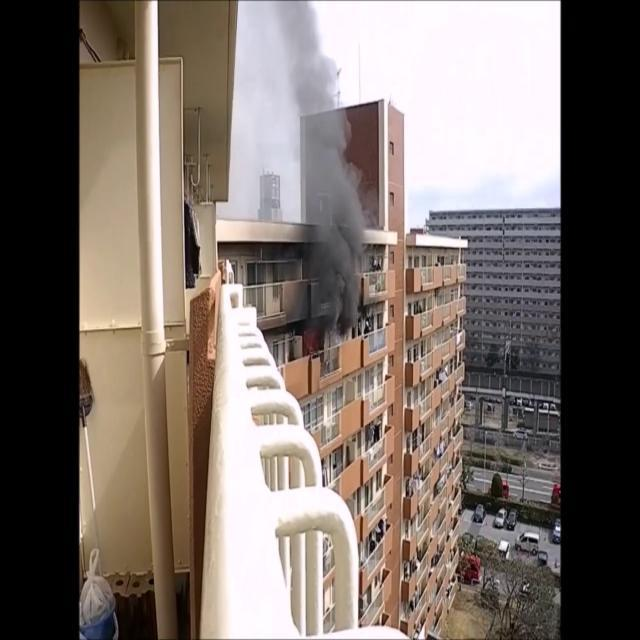Smoke: (276, 1, 369, 332)
